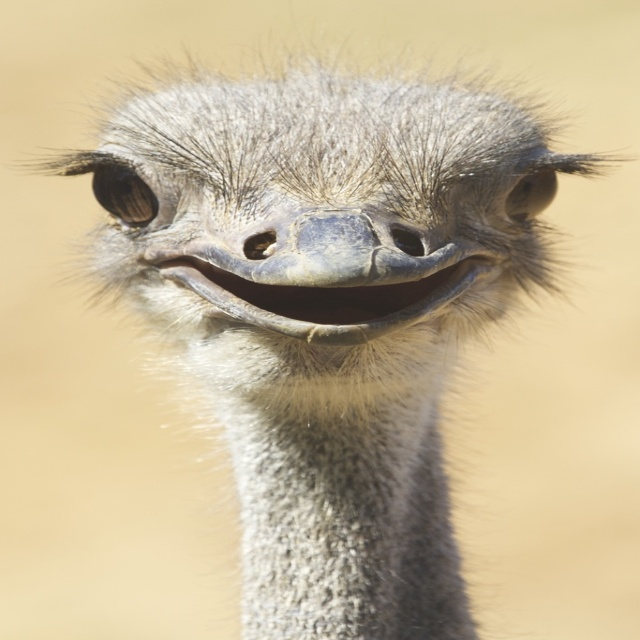Ostrich: (20, 58, 604, 640)
